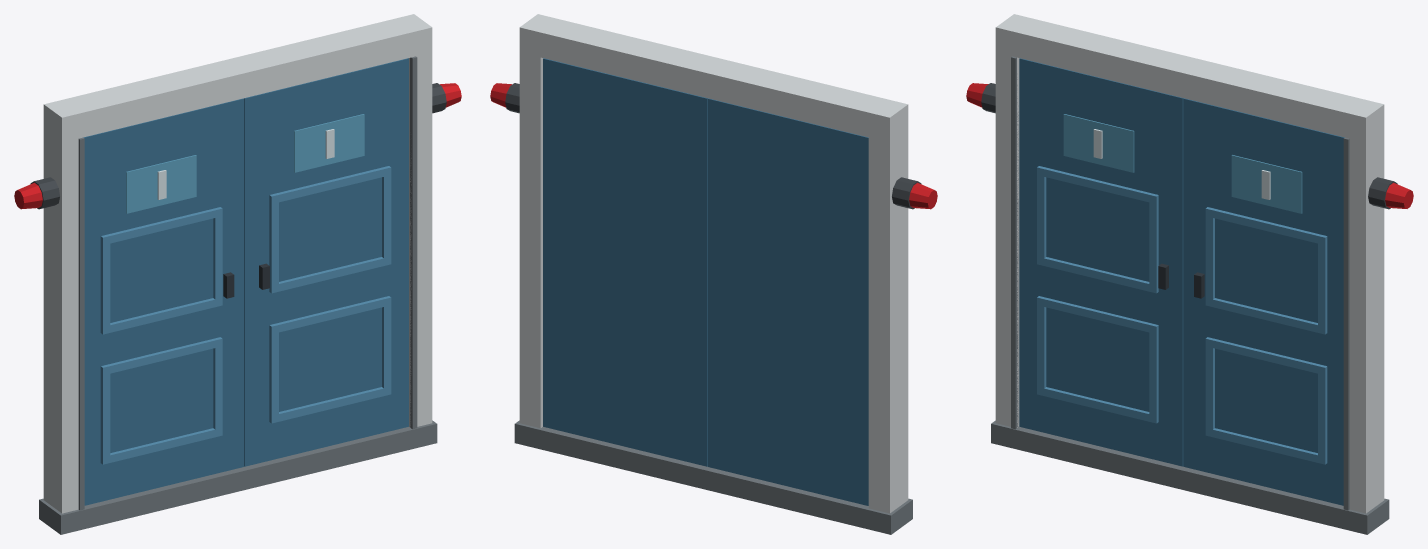
File: Fase4_PortaEscolarDupla.fbx
3 views of the same model, side by side, from view 1: azimuth 30°, elevation 25°; view 2: azimuth 150°, elevation 25°; view 3: azimuth 330°, elevation 25° (orthographic).
Visible parts, largest first — view 1: DoorLeaf_Right, DoorLeaf_Left, DoorFrame, DoorAccent_MirrorSource, PoliceLight_Left, PoliceLight_Right; view 2: DoorLeaf_Right, DoorLeaf_Left, DoorFrame, PoliceLight_Left, PoliceLight_Right; view 3: DoorLeaf_Left, DoorLeaf_Right, DoorFrame, DoorAccent_MirrorSource, PoliceLight_Right, PoliceLight_Left.
Part boxes in pixels (box(x1,y1,x2,y2)): DoorLeaf_Right: box(244, 58, 408, 466); DoorLeaf_Left: box(83, 98, 244, 505); DoorFrame: box(39, 14, 437, 534); DoorAccent_MirrorSource: box(126, 114, 364, 213); PoliceLight_Left: box(14, 177, 59, 209); PoliceLight_Right: box(432, 83, 461, 113); DoorLeaf_Right: box(543, 58, 707, 466); DoorLeaf_Left: box(707, 98, 868, 505); DoorFrame: box(514, 14, 912, 534); PoliceLight_Left: box(892, 177, 937, 209); PoliceLight_Right: box(490, 83, 519, 113); DoorLeaf_Left: box(1019, 58, 1183, 466); DoorLeaf_Right: box(1183, 98, 1344, 505); DoorFrame: box(991, 14, 1389, 534); DoorAccent_MirrorSource: box(1063, 114, 1302, 213); PoliceLight_Right: box(1368, 177, 1413, 209); PoliceLight_Left: box(966, 83, 995, 113).
Size of the model in its own units: 331 by 300 by 28.57.
